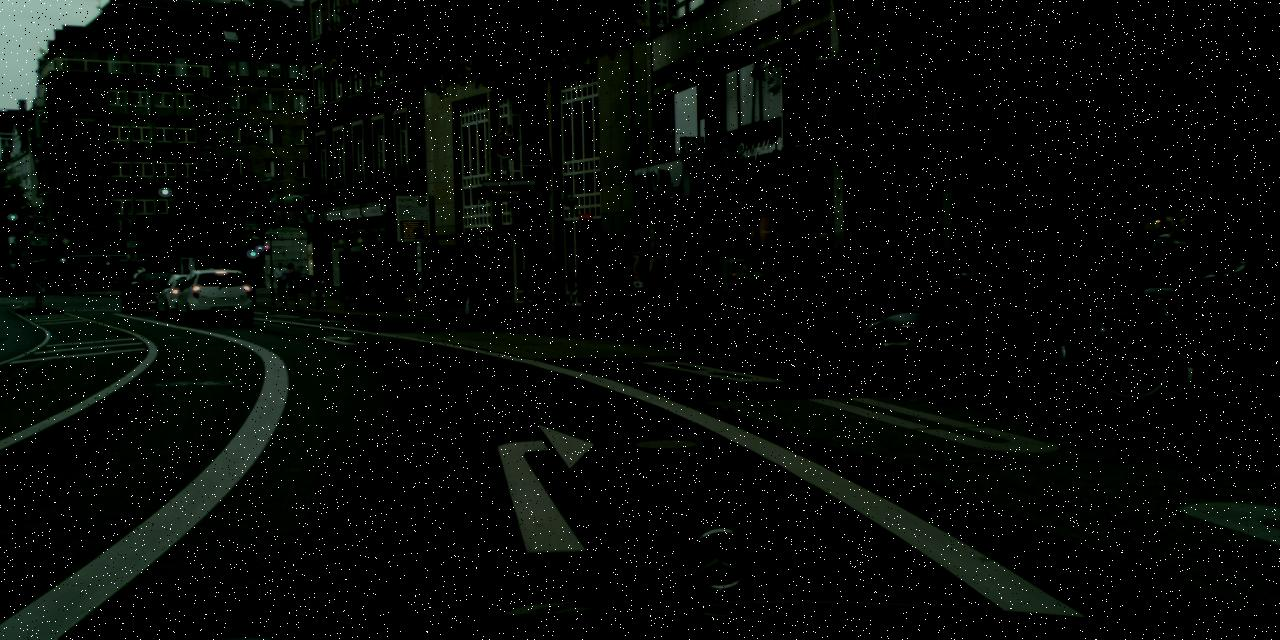ped: (1082, 208, 1140, 351), (1139, 214, 1196, 354), (1127, 220, 1176, 342), (833, 225, 877, 333), (805, 232, 847, 336), (1180, 260, 1218, 354), (645, 244, 674, 315), (668, 246, 696, 315), (456, 254, 480, 316), (353, 261, 372, 307), (273, 262, 288, 298), (284, 262, 298, 298), (10, 275, 22, 296), (206, 265, 215, 286), (89, 271, 97, 290), (100, 271, 107, 289), (118, 271, 124, 288)
